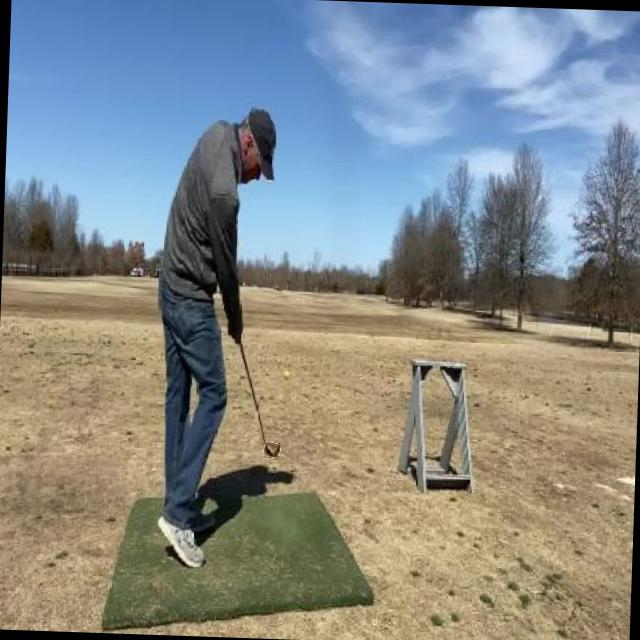club head: (263, 442, 280, 458)
